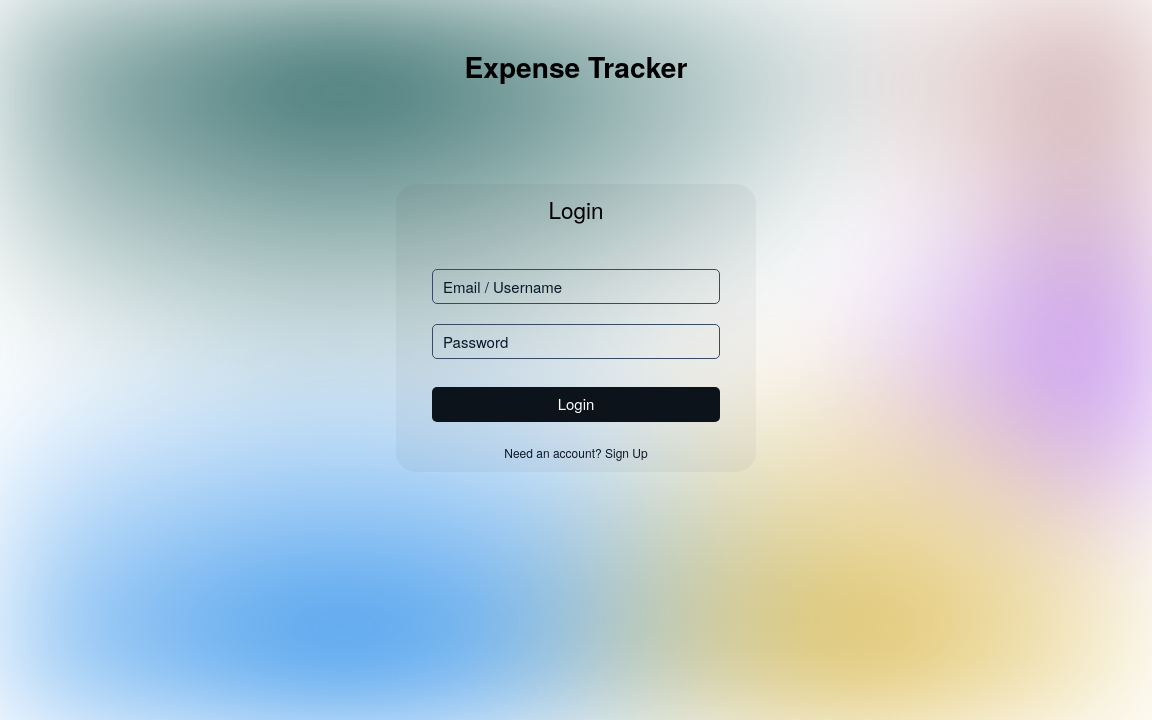
Test: Expense Tab & Form Tests › should switch to Add Expense tab and show the form
The width and height of the screenshot is (1152, 720).
Type "anas" into the field named "email" at (576, 287), box [432,269,720,304]
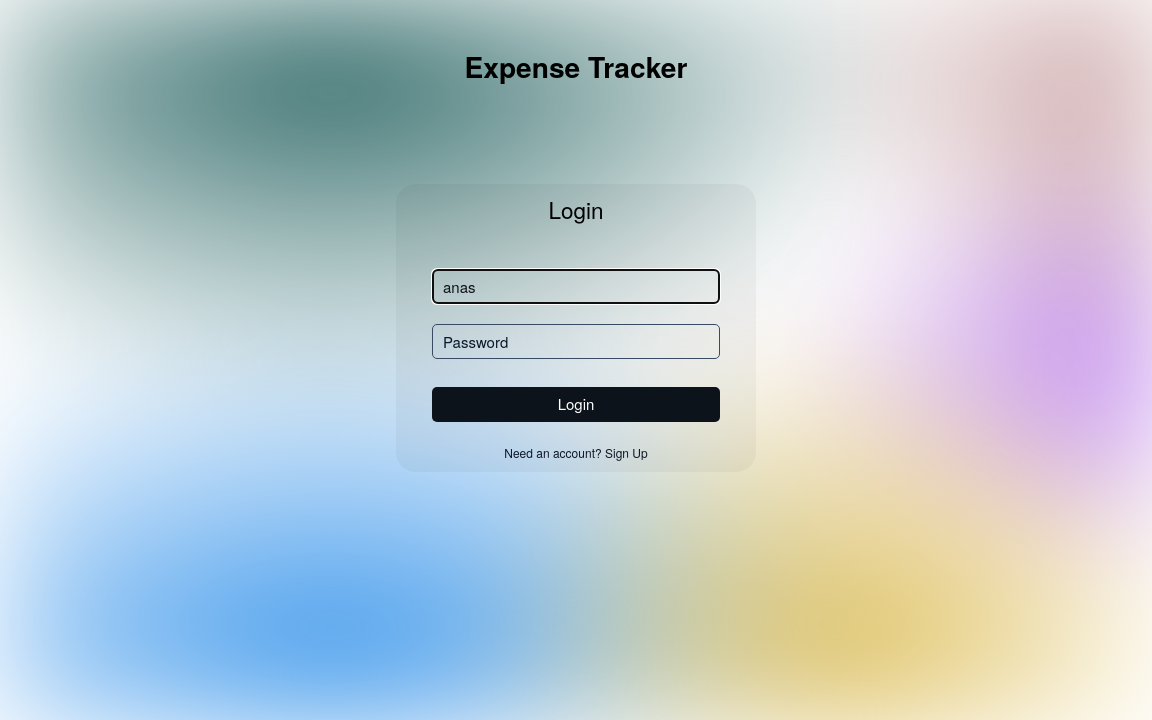
Type "0000" into the field named "password" at (576, 342), box [432,324,720,359]
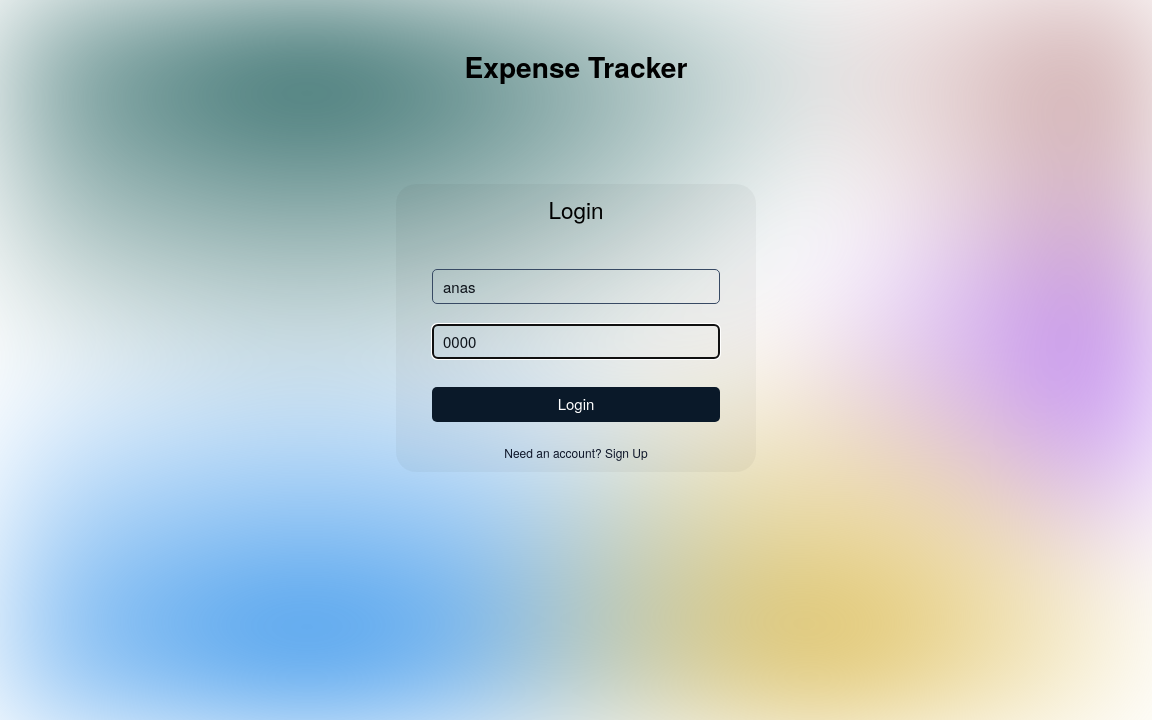
Click the submit button at (576, 405), box [432,387,720,422]
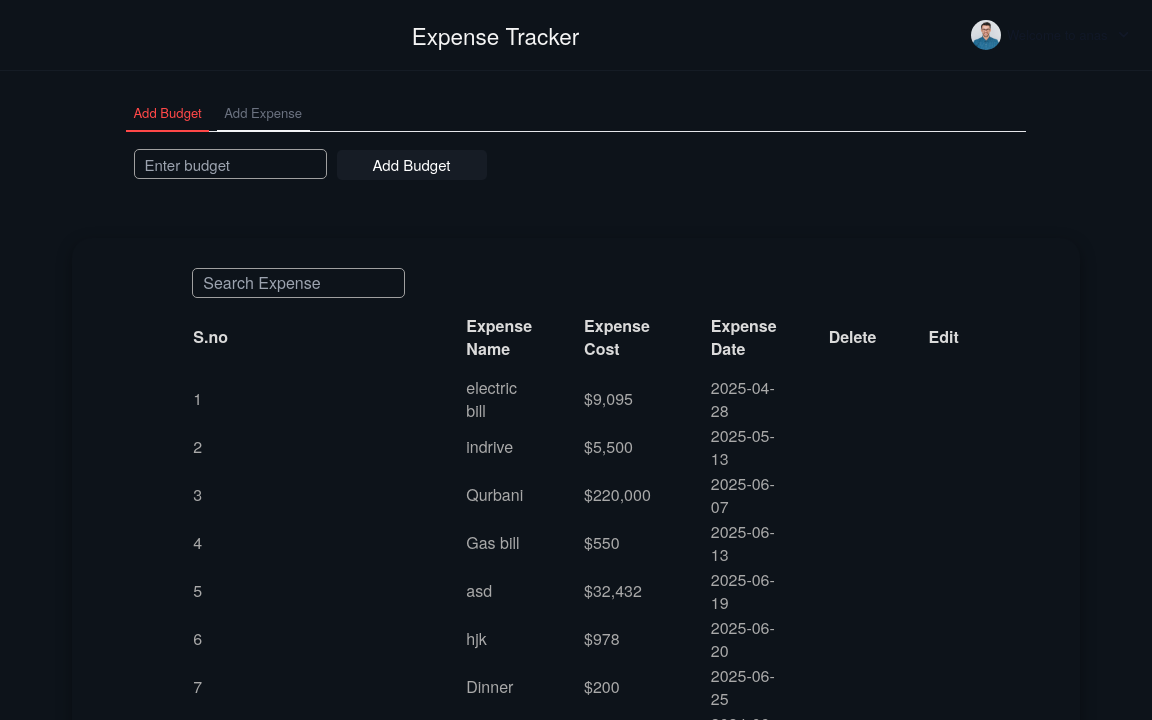
Open "/expense"
Now the tab with id "dashboardstyledtab" is shown
Click the tab with id "dashboardstyledtab" at (264, 114), box [217,96,310,132]
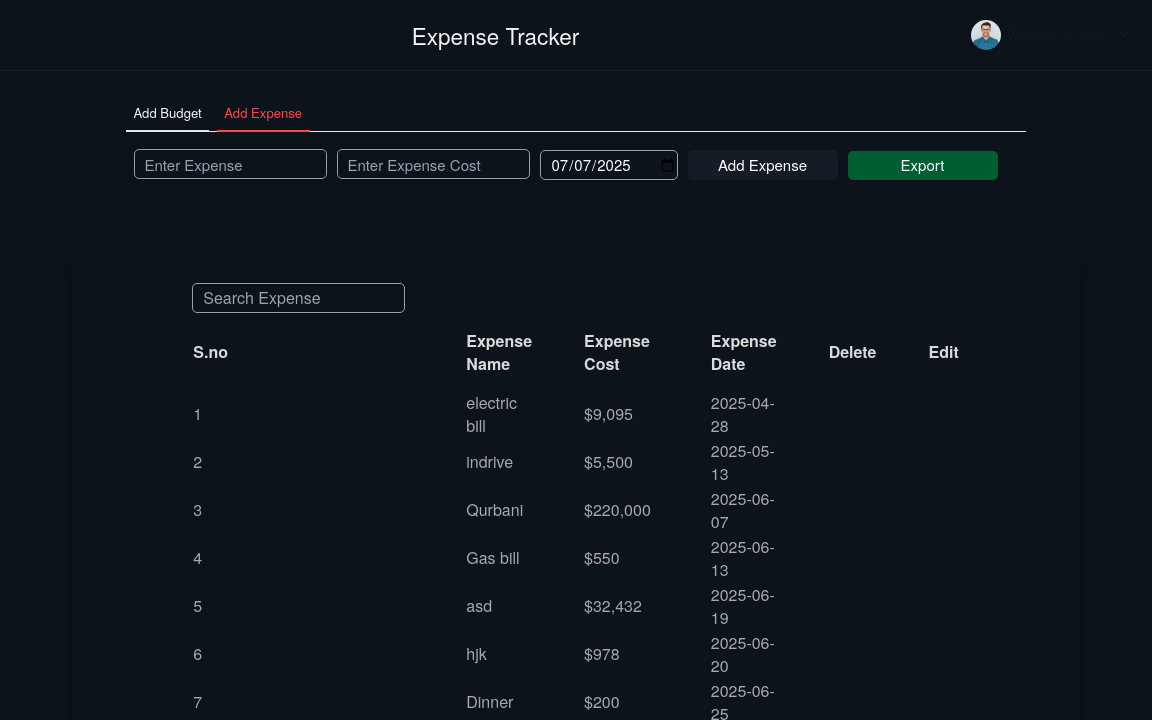
Now the field named "expencename" is shown, box [134,149,327,179]
Now the panel with id "styleddashboard" is shown, box [134,149,998,180]
Now the panel with id "styledprofile" is gone
